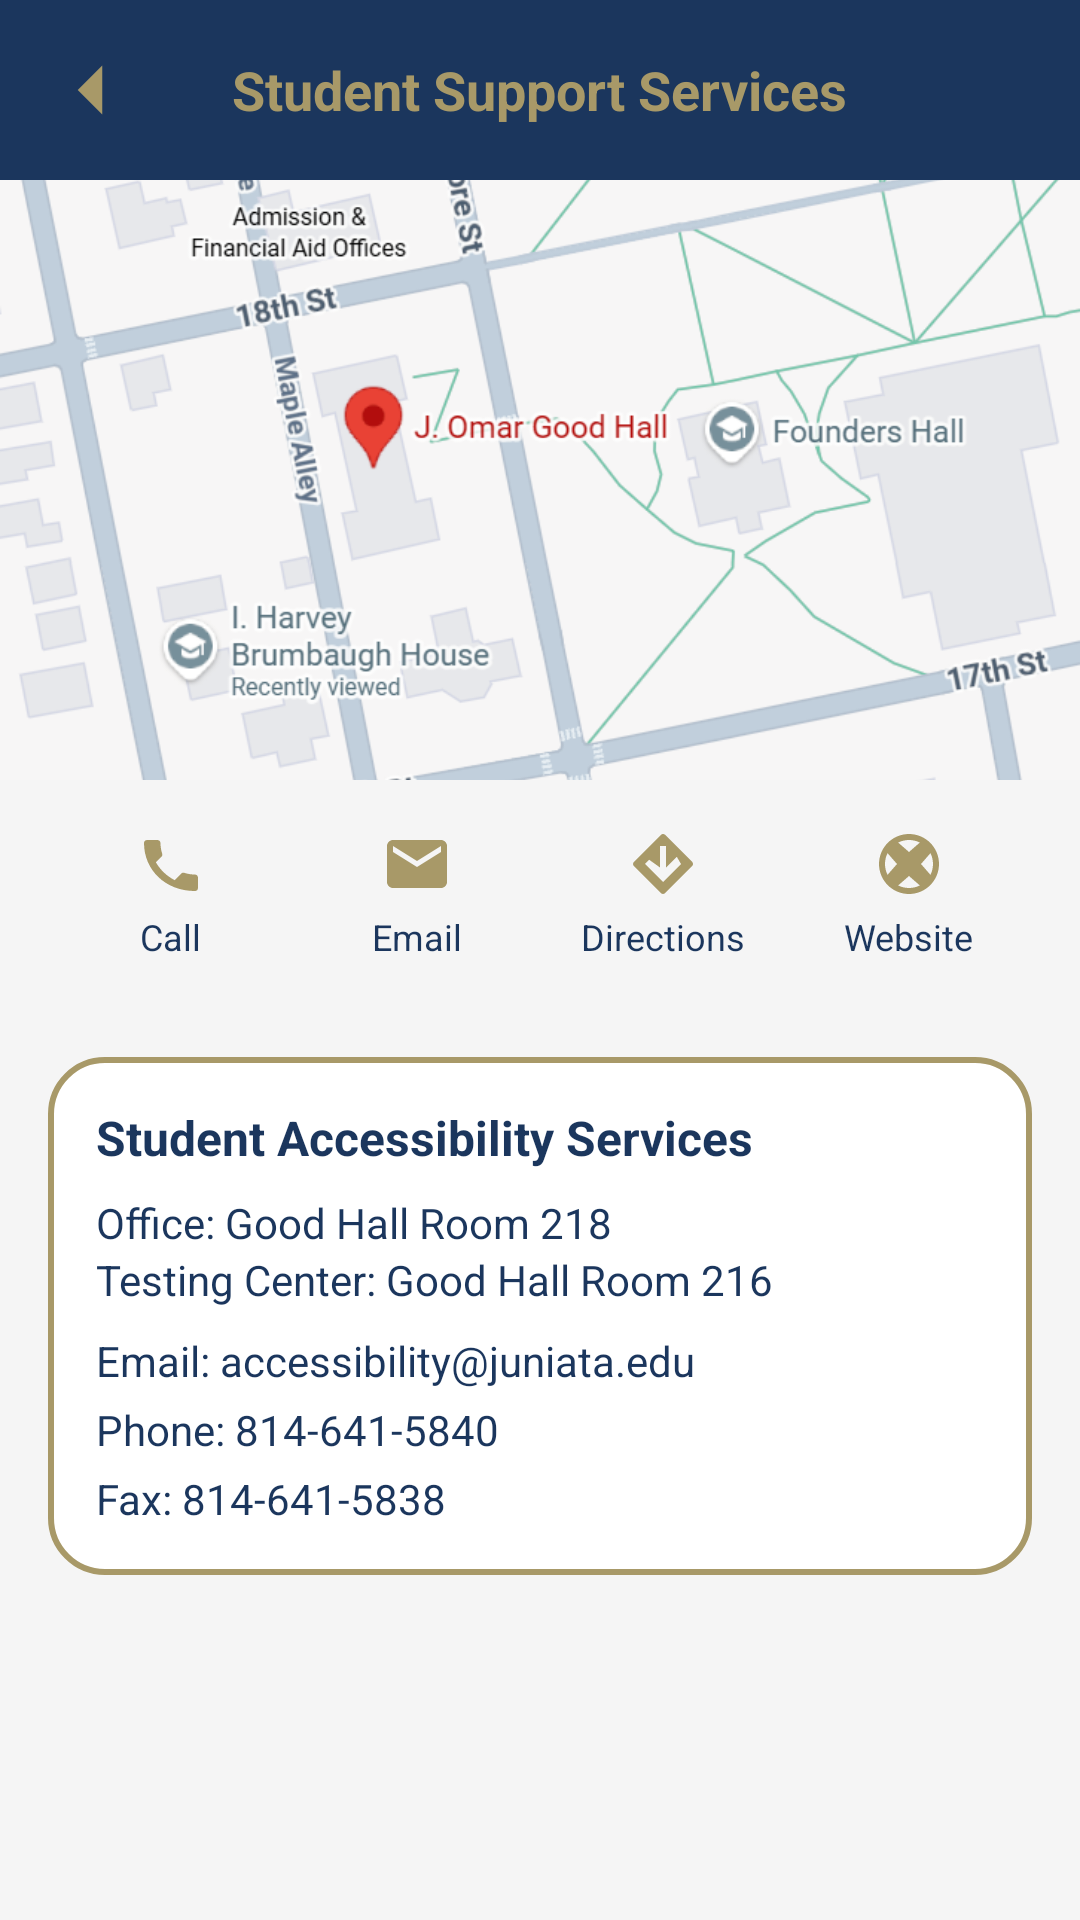

Where to tap for icons on this 1080×1920 app screen, as point (x, y):
back: point (90, 90)
